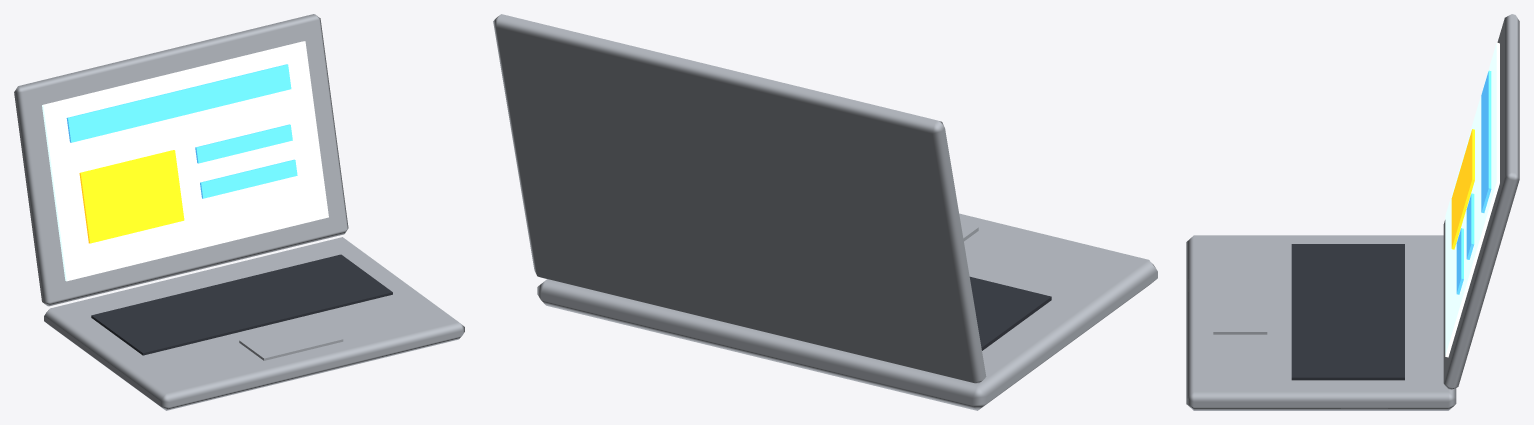
The model's file is station_processing_ausstattung_1_0.glb.
3 views of the same model, side by side, from view 1: azimuth 30°, elevation 25°; view 2: azimuth 150°, elevation 25°; view 3: azimuth 270°, elevation 25° (orthographic). The views are drawn at different scales.
Visible parts, largest first — view 1: station_processing_ausstattung_1_0; view 2: station_processing_ausstattung_1_0; view 3: station_processing_ausstattung_1_0.
Boxes of the visible parts, bbox=[...] form: station_processing_ausstattung_1_0: bbox=[14, 14, 464, 410]; station_processing_ausstattung_1_0: bbox=[493, 14, 1157, 410]; station_processing_ausstattung_1_0: bbox=[1186, 14, 1519, 410].
Bounding box in the file's own units: 0.4 × 0.2742 × 0.3457.
